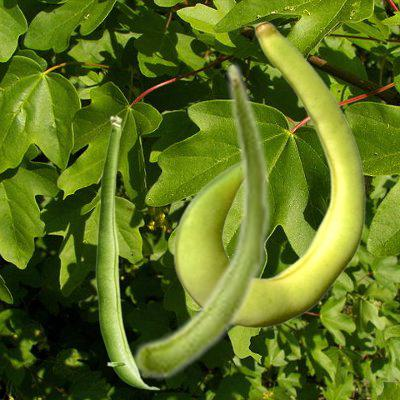french_bean: (173, 21, 365, 327), (133, 61, 271, 379), (95, 115, 160, 389)
